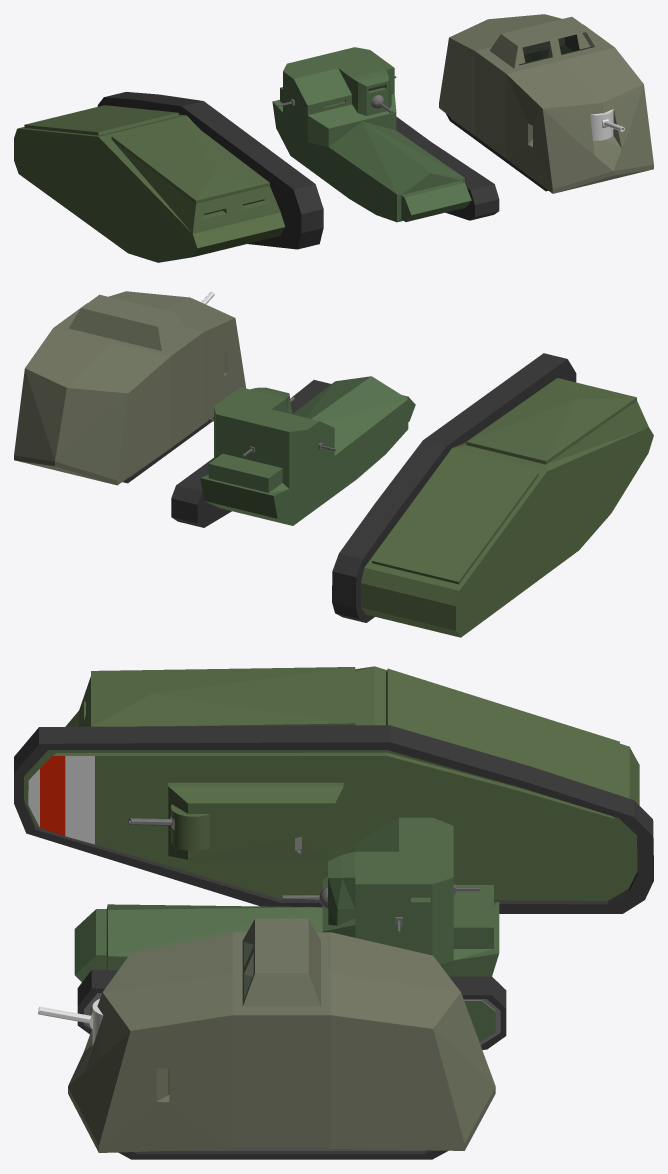
File: Vehicles.fbx
The picture shows the model from 3 angles, top to bottom: view 1: azimuth 30°, elevation 25°; view 2: azimuth 150°, elevation 25°; view 3: azimuth 270°, elevation 25°; orthographic projection. The views are drawn at different scales.
Parts seen in each view (by area): view 1: Mark V, A7v, Whippet, Mark V tread, Whippet Tread, A7v Cannon Rotater, A7v Tread; view 2: Mark V, A7v, Whippet, Mark V tread, Whippet Tread; view 3: Mark V tread, A7v, Mark V, Whippet, Whippet Tread, A7v Tread 2, A7v Cannon Rotater.001.
Part boxes in pixels (x1=…): Mark V: x1=14, y1=105, x2=285, y2=262; A7v: x1=439, y1=14, x2=653, y2=193; Whippet: x1=272, y1=47, x2=471, y2=222; Mark V tread: x1=97, y1=92, x2=323, y2=249; Whippet Tread: x1=396, y1=116, x2=499, y2=220; A7v Cannon Rotater: x1=590, y1=109, x2=613, y2=140; A7v Tread: x1=446, y1=114, x2=548, y2=191; Mark V: x1=361, y1=378, x2=653, y2=637; A7v: x1=14, y1=291, x2=246, y2=485; Whippet: x1=200, y1=376, x2=415, y2=525; Mark V tread: x1=332, y1=353, x2=576, y2=622; Whippet Tread: x1=171, y1=380, x2=330, y2=527; Mark V tread: x1=14, y1=725, x2=653, y2=913; A7v: x1=68, y1=918, x2=495, y2=1152; Mark V: x1=65, y1=666, x2=639, y2=805; Whippet: x1=74, y1=817, x2=499, y2=981; Whippet Tread: x1=77, y1=969, x2=506, y2=1049; A7v Tread 2: x1=118, y1=1148, x2=448, y2=1159; A7v Cannon Rotater.001: x1=171, y1=804, x2=209, y2=850.
Size of the model in its own units: 1390 by 365 by 1042.
